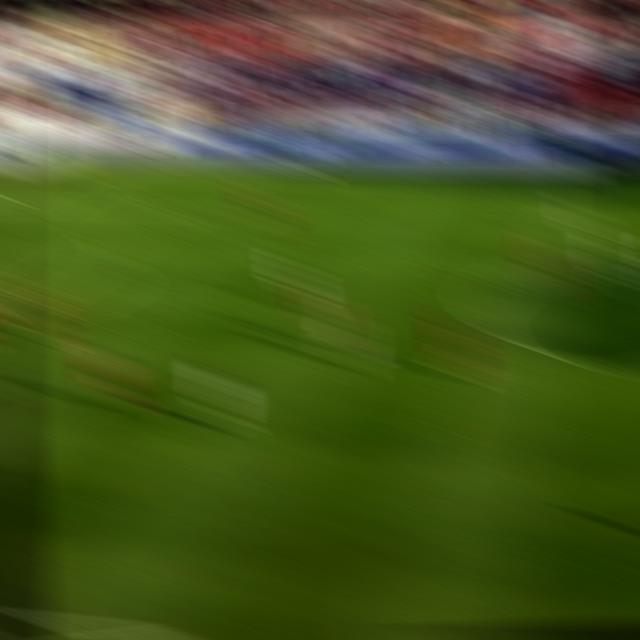bigarea_top_inner: (155, 199, 187, 219)
corner: (47, 161, 80, 176)
top_arc_area_intersection: (90, 240, 122, 258)
